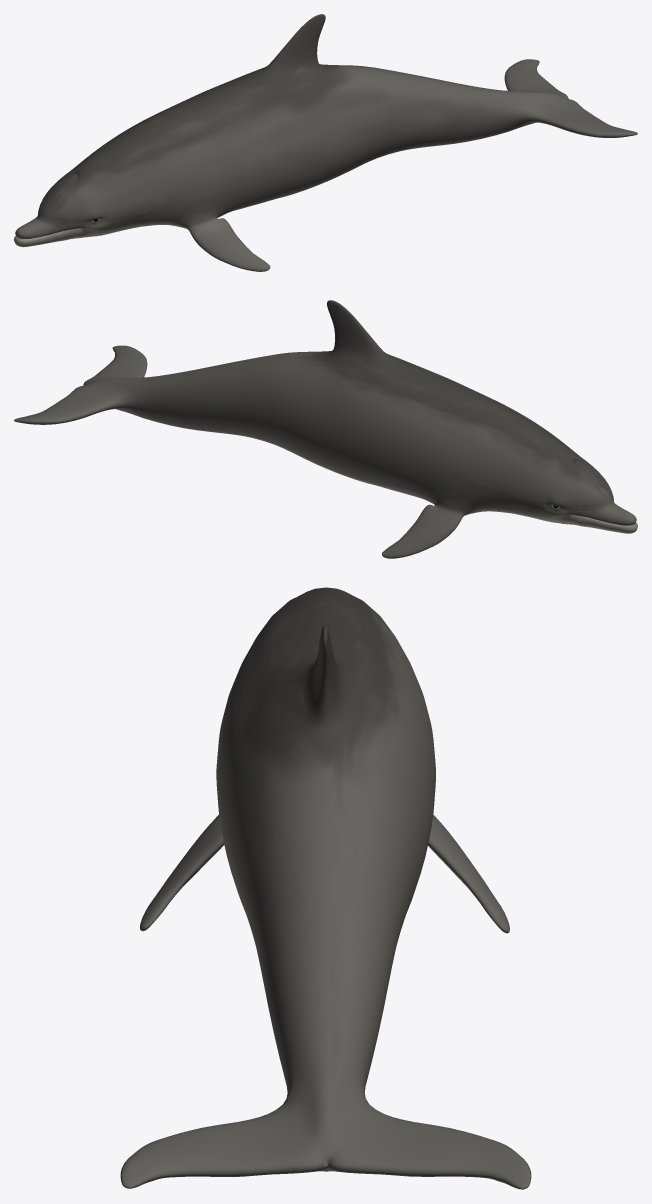
Rendered from dolphin.glb.
The picture shows the model from 3 angles, top to bottom: view 1: azimuth 30°, elevation 25°; view 2: azimuth 150°, elevation 25°; view 3: azimuth 270°, elevation 25°; orthographic projection. The views are drawn at different scales.
Parts seen in each view (by area): view 1: body; view 2: body; view 3: body.
Part boxes in pixels (left/top/right/bottom): body: left=14, top=14, right=637, bottom=271; body: left=14, top=300, right=637, bottom=558; body: left=120, top=587, right=531, bottom=1189.
Bounding box in the file's own units: 1 × 0.3333 × 0.31.
Materials: 2 (2 with a texture image).
